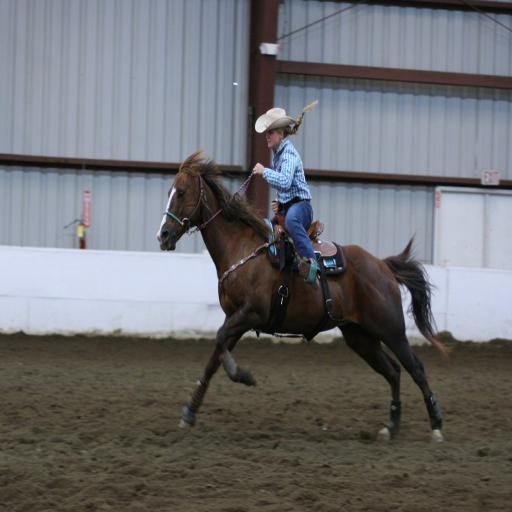horse: (154, 146, 454, 444)
